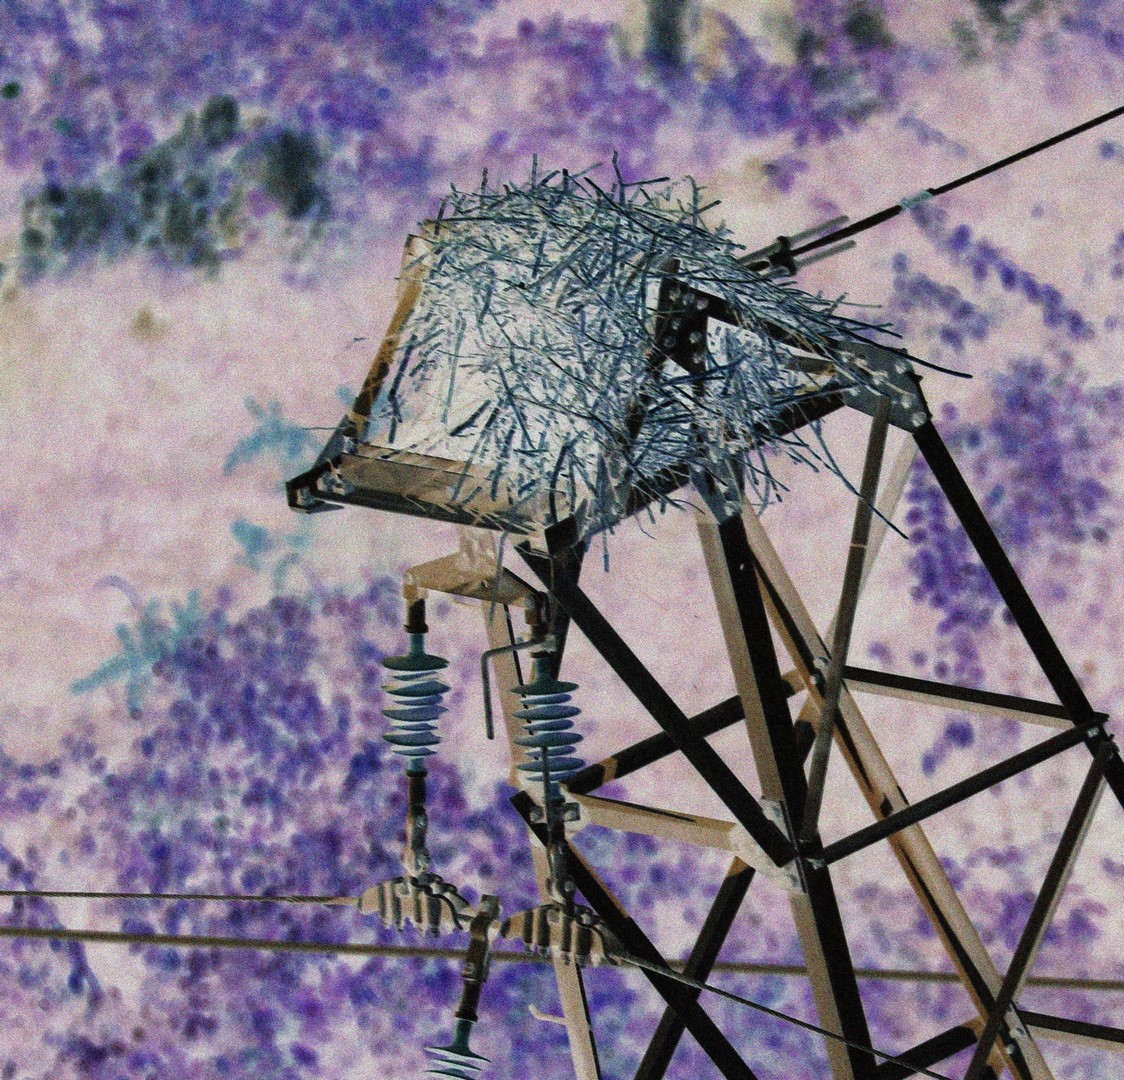niaowo: (372, 168, 805, 524)
